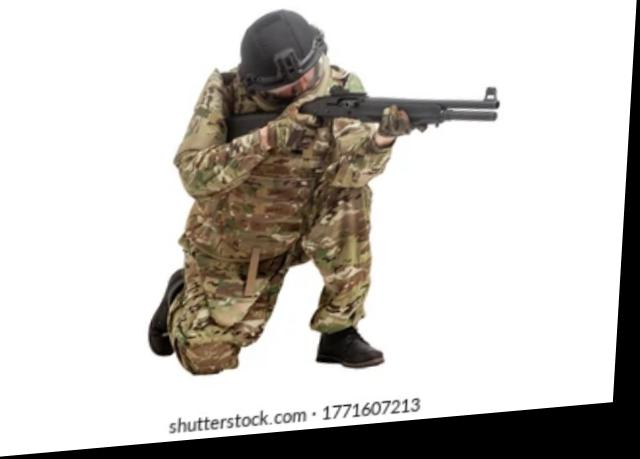other: (182, 9, 408, 386)
